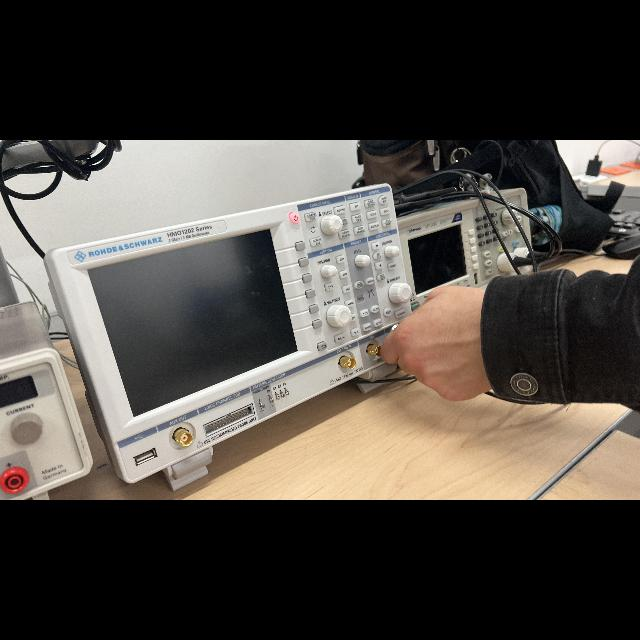Digital-Oscilloscope: (45, 185, 411, 490)
